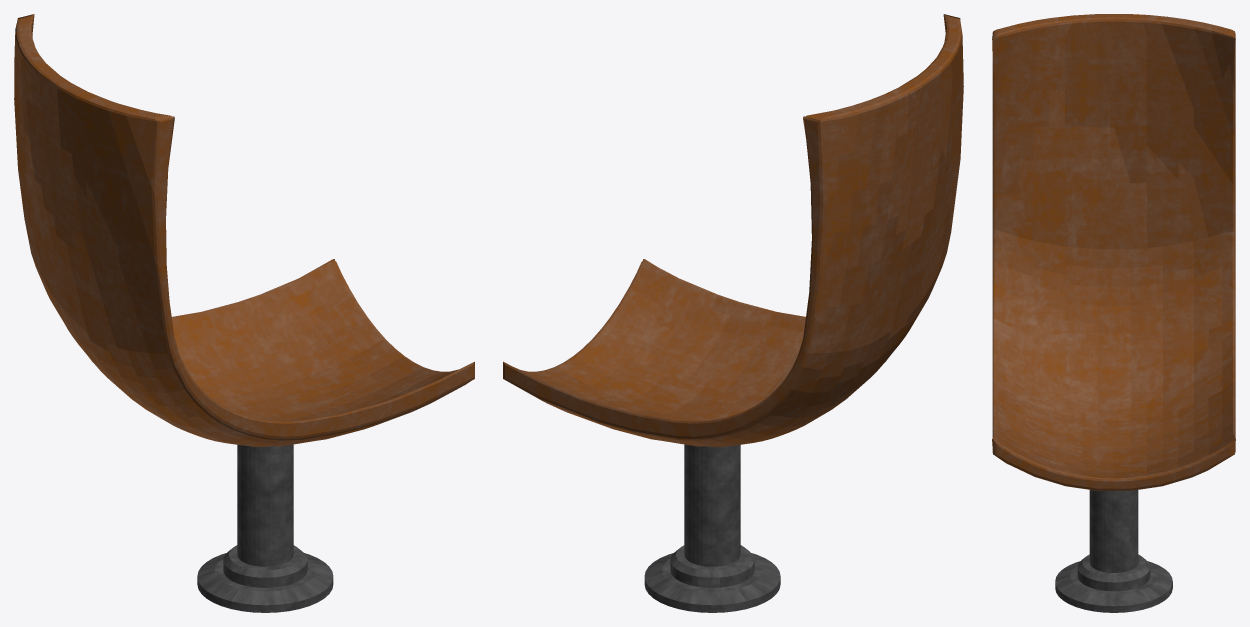
The model's file is Final_Chair.glb.
3 views of the same model, side by side, from view 1: azimuth 30°, elevation 25°; view 2: azimuth 150°, elevation 25°; view 3: azimuth 270°, elevation 25° (orthographic). The views are drawn at different scales.
Visible parts, largest first — view 1: Chair desk chair, Chair desk chair.001; view 2: Chair desk chair, Chair desk chair.001; view 3: Chair desk chair, Chair desk chair.001.
Boxes of the visible parts, left/top/right/bottom form: Chair desk chair: left=14, top=14, right=474, bottom=446; Chair desk chair.001: left=197, top=444, right=333, bottom=612; Chair desk chair: left=503, top=14, right=963, bottom=446; Chair desk chair.001: left=644, top=444, right=780, bottom=612; Chair desk chair: left=992, top=14, right=1235, bottom=490; Chair desk chair.001: left=1055, top=490, right=1172, bottom=612.
Bounding box in the file's own units: 7.41 × 11.05 × 5.05.
2 materials, 2 textured.
